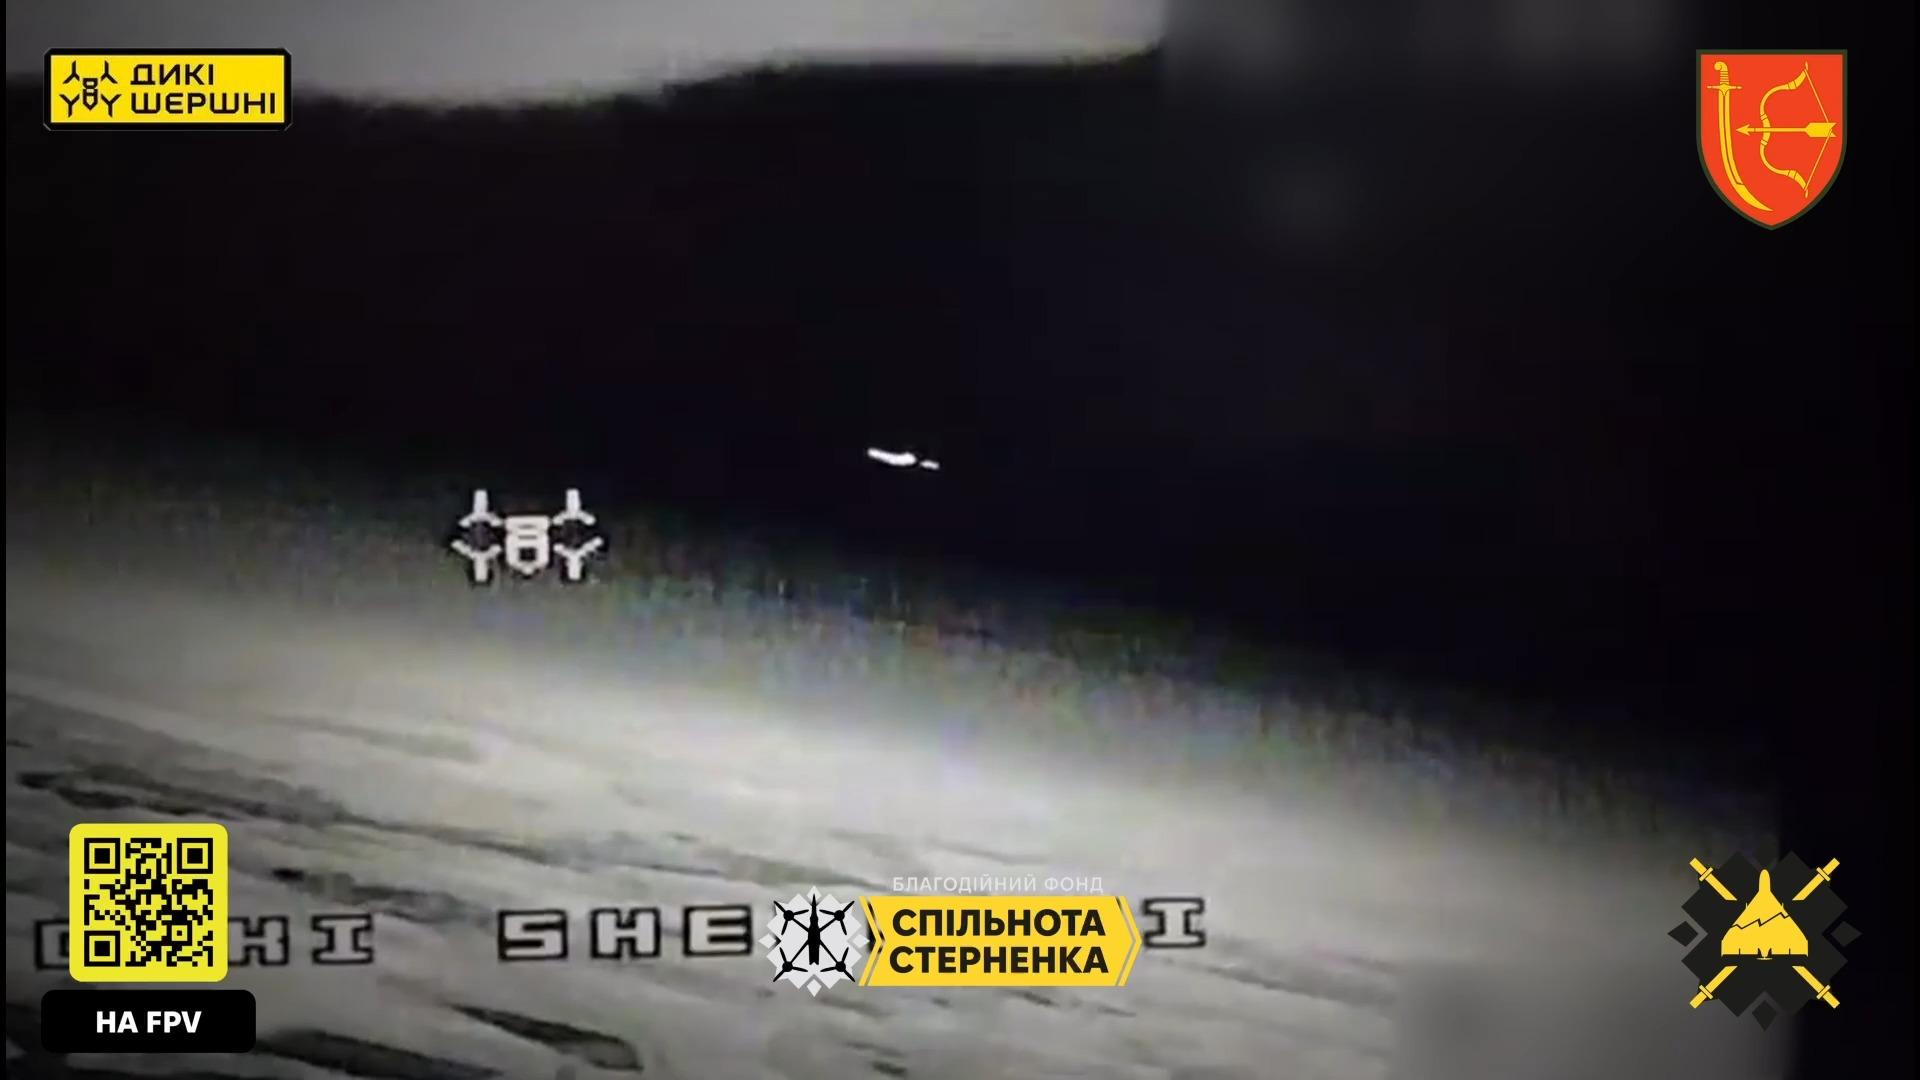Gerbera: (866, 447, 942, 471)
